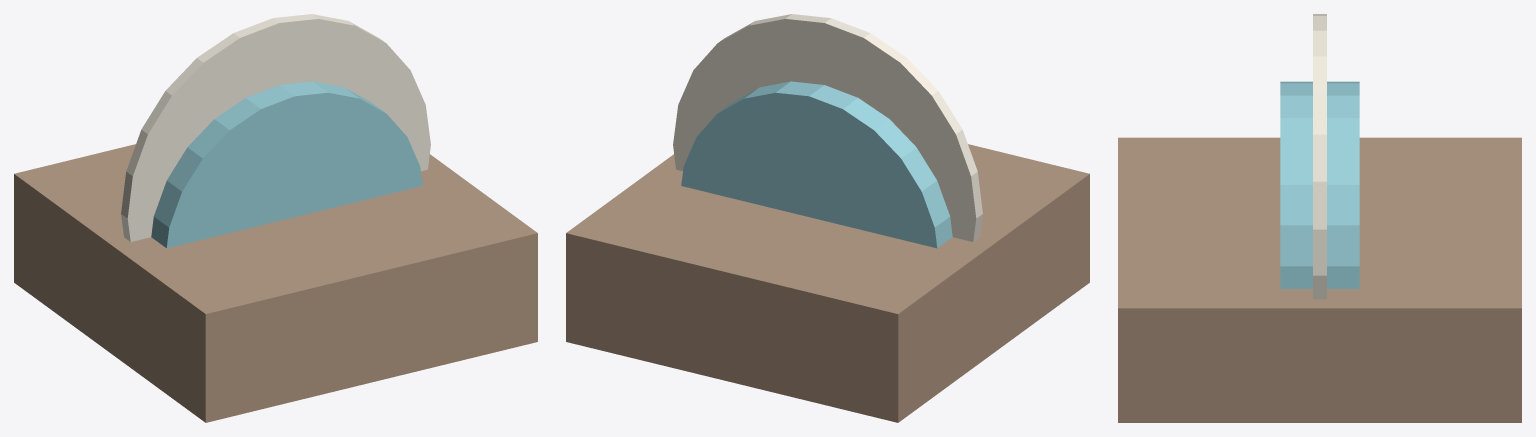
Rendered from hot_tub.glb.
3 renders of one model, left to right at view 1: azimuth 30°, elevation 25°; view 2: azimuth 150°, elevation 25°; view 3: azimuth 270°, elevation 25°, orthographic. The views are drawn at different scales.
Visible parts, largest first — view 1: part_00, part_01, part_02; view 2: part_00, part_01, part_02; view 3: part_00, part_01, part_02.
Part boxes in pixels (x1=…): part_00: x1=14, y1=144, x2=537, y2=422; part_01: x1=151, y1=81, x2=422, y2=248; part_02: x1=121, y1=14, x2=430, y2=241; part_00: x1=566, y1=144, x2=1089, y2=422; part_01: x1=681, y1=81, x2=952, y2=248; part_02: x1=673, y1=14, x2=982, y2=241; part_00: x1=1118, y1=137, x2=1521, y2=422; part_01: x1=1280, y1=81, x2=1359, y2=288; part_02: x1=1313, y1=14, x2=1326, y2=299.
Size of the model in its own units: 2.3 by 2.21 by 2.3.
